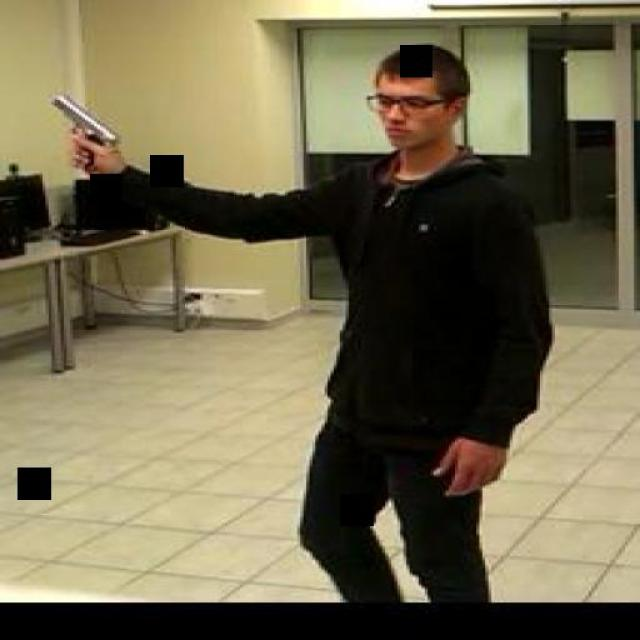gun: (42, 91, 128, 171)
